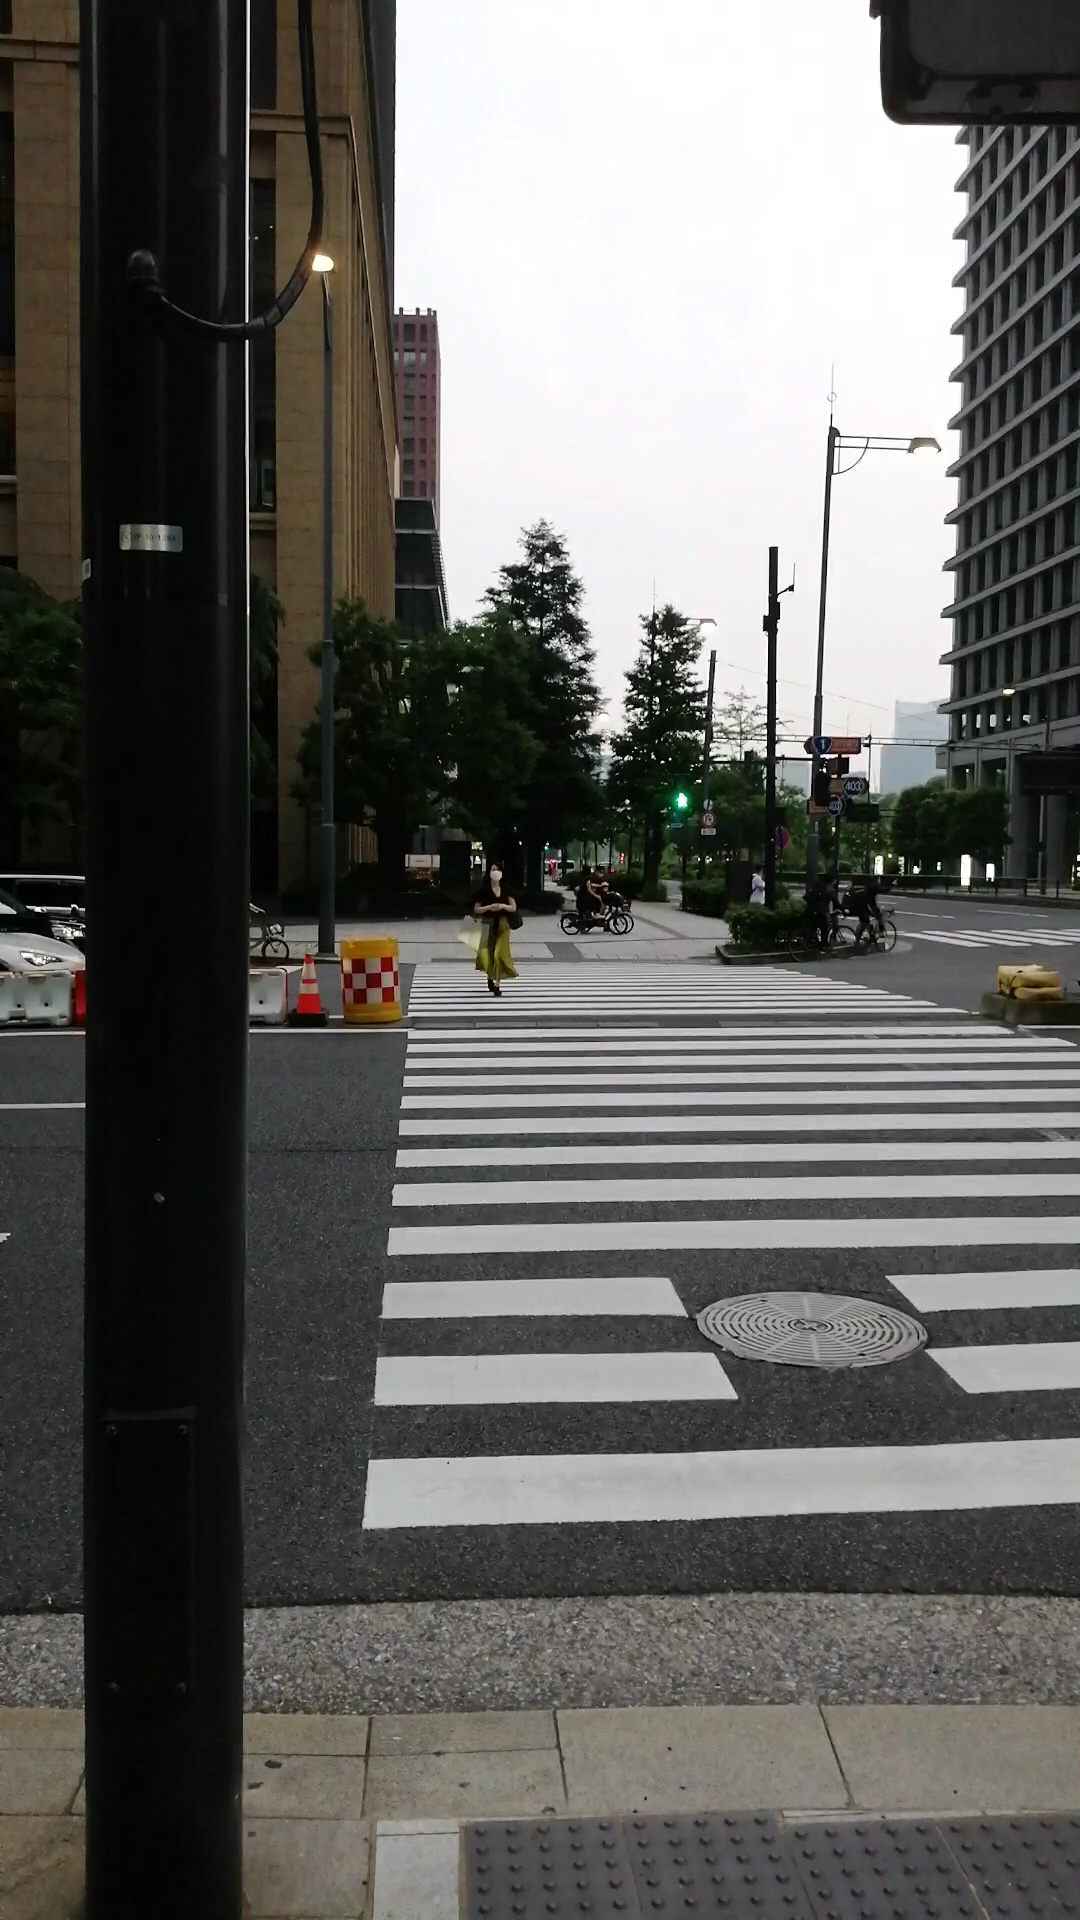green: (670, 771, 694, 812)
